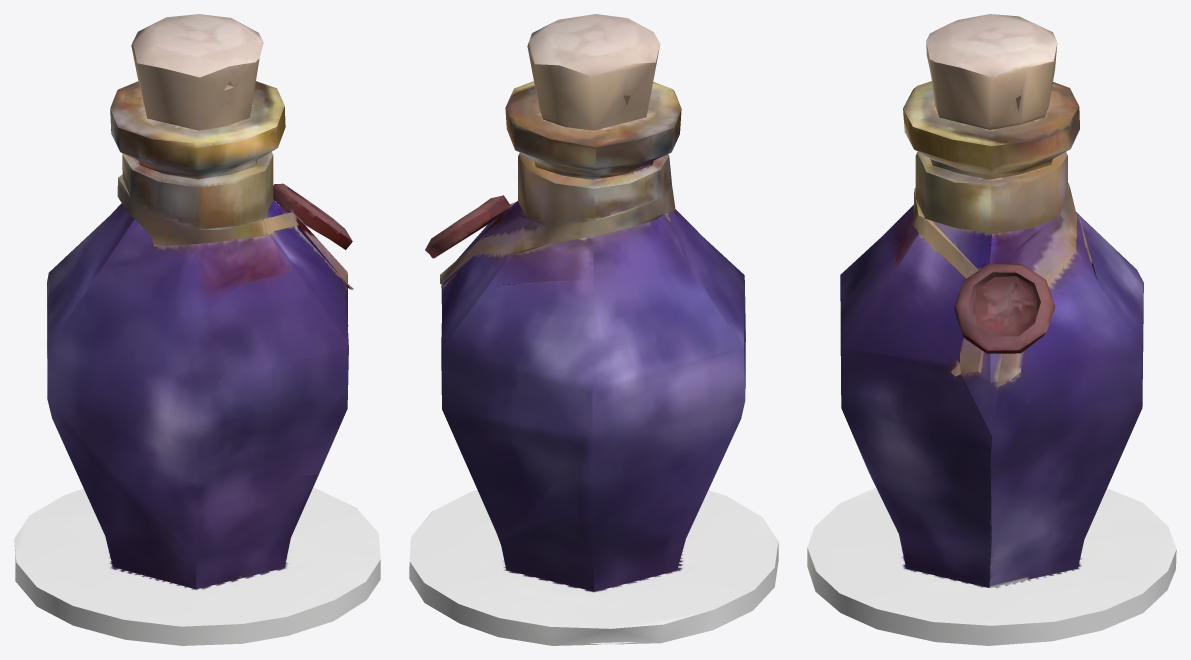
File: 紫藥水.glb
The picture shows the model from 3 angles, left to right: view 1: azimuth 30°, elevation 25°; view 2: azimuth 150°, elevation 25°; view 3: azimuth 270°, elevation 25°; orthographic projection.
Visible parts, largest first — view 1: geometry_0; view 2: geometry_0; view 3: geometry_0.
Part boxes in pixels (x1,y1,x2,y2): geometry_0: [14, 14, 380, 645]; geometry_0: [409, 14, 778, 645]; geometry_0: [807, 14, 1176, 645].
Size of the model in its own units: 0.6306 by 1 by 0.6291.
1 material, 1 textured.
